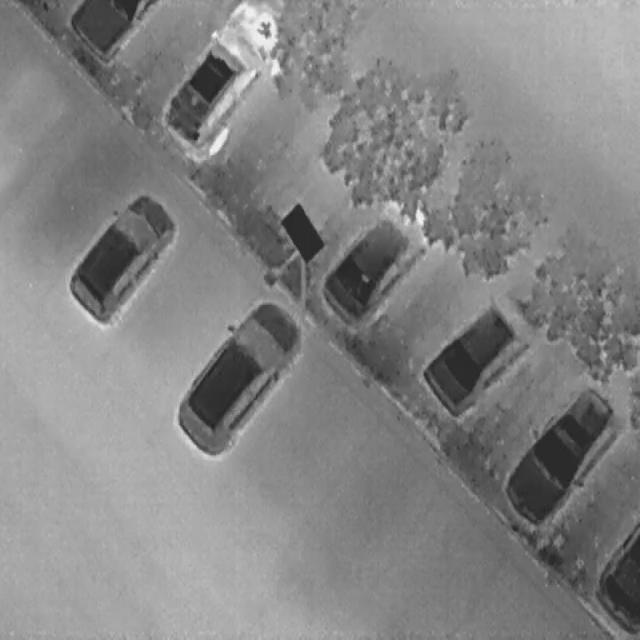Car: (160, 276, 313, 475), (415, 254, 565, 428), (496, 363, 631, 538), (310, 170, 448, 340), (55, 170, 185, 339), (158, 0, 282, 159), (65, 0, 157, 62)
